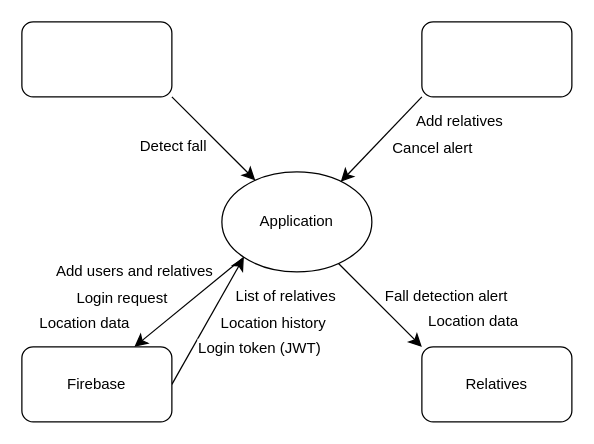
This 594x444 diagram has some shape labels left out. Here are the shapes that lost their labels. From the top down, the centre of each, then its label:
the point at 96,59: Wristband
the point at 496,59: User
